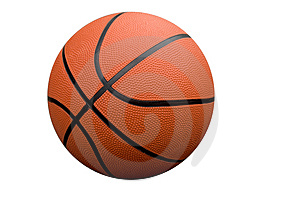basketball: (48, 12, 215, 179)
